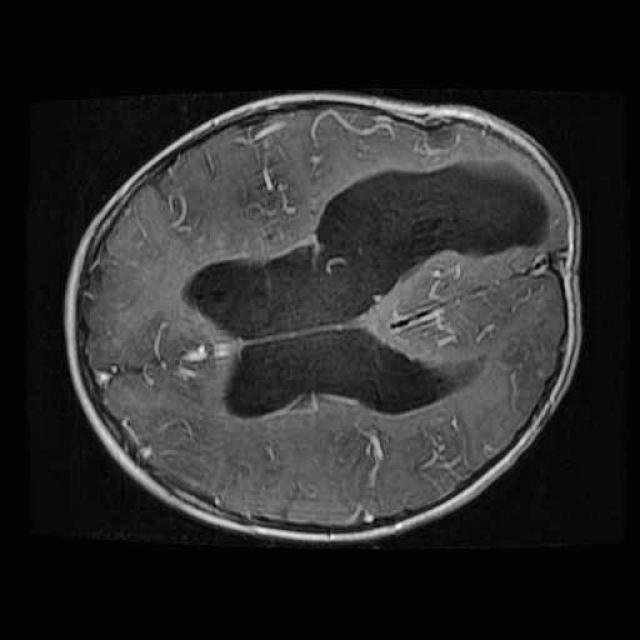Non-Tumor: (308, 151, 559, 320)
